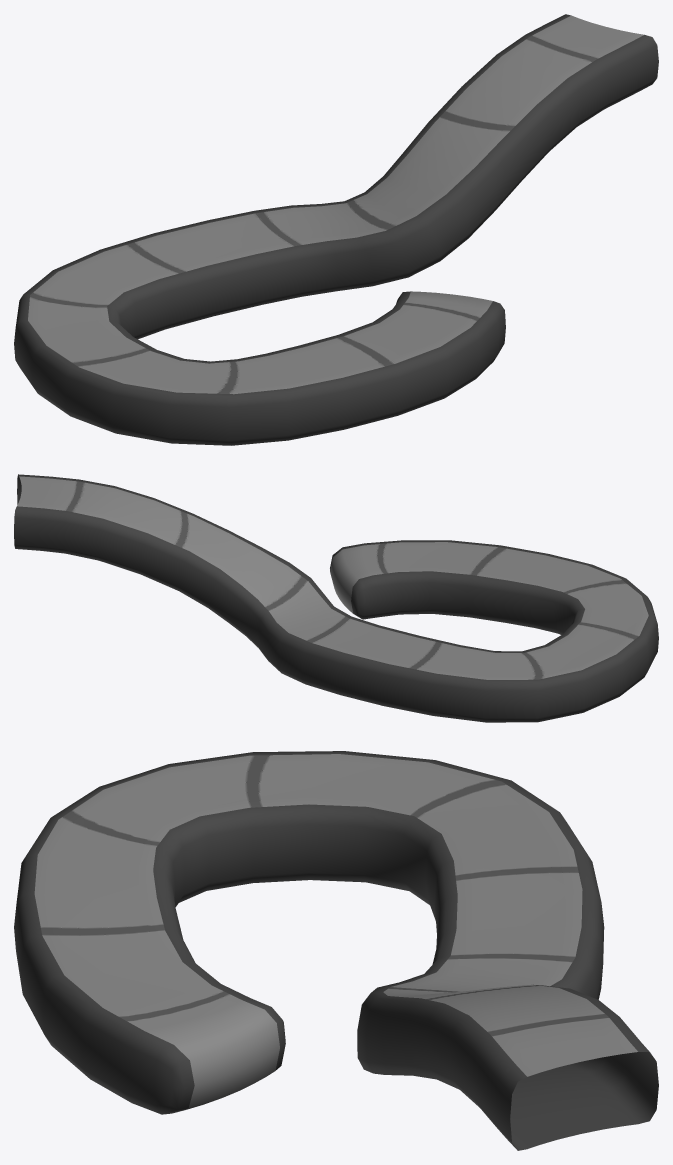
The model's file is Map_Rail_3.fbx.
3 renders of one model, top to bottom at view 1: azimuth 30°, elevation 25°; view 2: azimuth 150°, elevation 25°; view 3: azimuth 270°, elevation 25°, orthographic. The views are drawn at different scales.
Parts seen in each view (by area): view 1: Map_Rail_3; view 2: Map_Rail_3; view 3: Map_Rail_3.
Boxes of the visible parts, <box> form: Map_Rail_3: <box>14,14,658,445</box>; Map_Rail_3: <box>14,474,658,722</box>; Map_Rail_3: <box>14,751,658,1150</box>.
Size of the model in its own units: 3521 by 788 by 1976.
